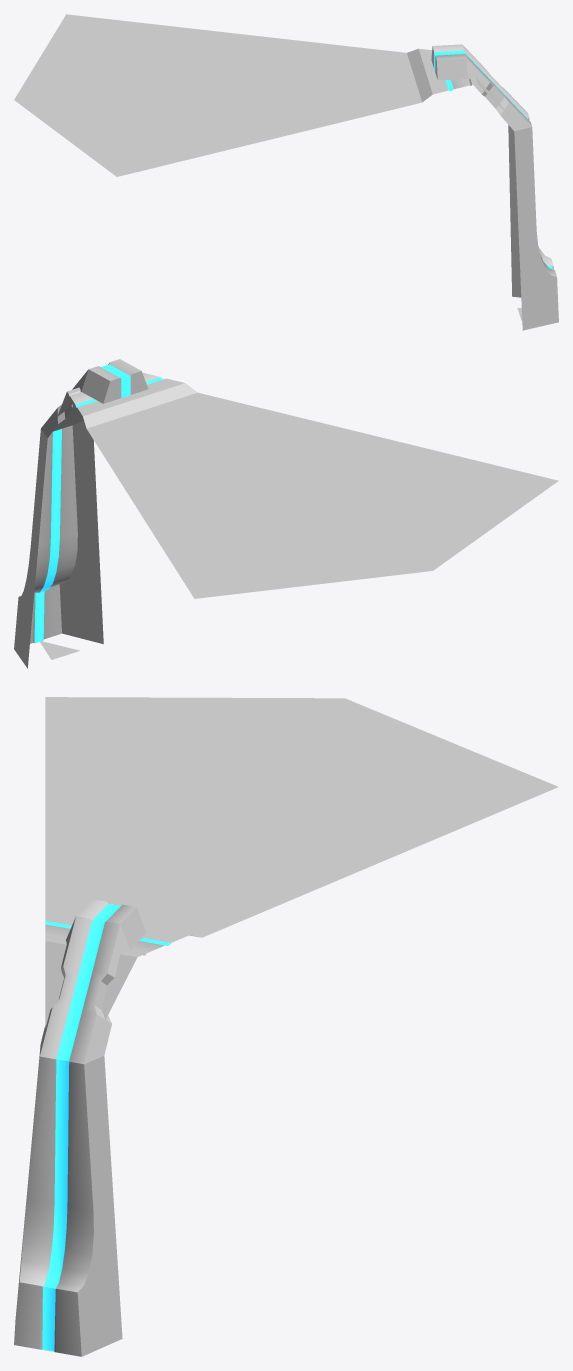
File: SM_WallTile_Corner.fbx
3 views of the same model, one above another, from view 1: azimuth 30°, elevation 25°; view 2: azimuth 150°, elevation 25°; view 3: azimuth 270°, elevation 25° (orthographic). The views are drawn at different scales.
Visible parts, largest first — view 1: Plane.013; view 2: Plane.013; view 3: Plane.013.
Part boxes in pixels (x1,y1,x2,y2): Plane.013: (14, 14, 558, 330); Plane.013: (14, 359, 558, 668); Plane.013: (14, 697, 558, 1356).
Size of the model in its own units: 8.51 by 6.26 by 4.82.
